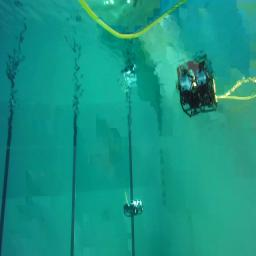Side: (124, 199, 144, 217)
front: (179, 80, 218, 117)
